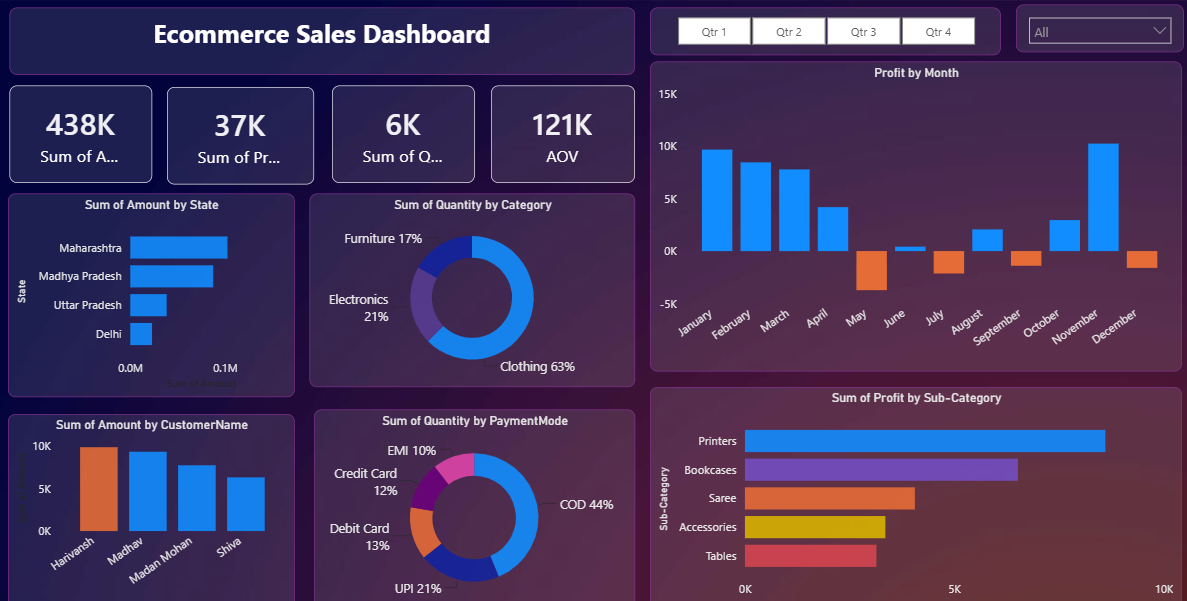

Layout of this report page (visuals, bound fields, positions):
{"tool":"powerbi","page":{"name":"Page 1","canvas":[1280,720],"ordinal":0},"visuals":[{"type":"textbox","box":[17.5,30.2,663.3,71.6],"z":0},{"type":"columnChart","title":"Profit by Month","fields":{"Y":["Sum(Details.Profit)"],"Category":["Orders.Order Date.Variation.Date Hierarchy.Month"]},"box":[696.1,88,564.1,328.9],"z":1000},{"type":"barChart","fields":{"Category":["Details.Sub-Category"],"Y":["Sum(Details.Profit)"]},"box":[696.1,432.2,564.1,237.1],"z":2000},{"type":"donutChart","fields":{"Category":["Details.Category"],"Y":["Sum(Details.Quantity)"]},"box":[335.6,227.5,345.2,205.2],"z":3000},{"type":"donutChart","fields":{"Category":["Details.PaymentMode"],"Y":["Sum(Details.Quantity)"]},"box":[340.4,456.5,340.4,213.1],"z":4000},{"type":"cardVisual","fields":{"Data":["Sum(Details.Amount)"]},"box":[17.5,112.9,151.1,103.4],"z":5000},{"type":"cardVisual","fields":{"Data":["Sum(Details.Profit)"]},"box":[184.5,114.5,155.9,103.4],"z":6000},{"type":"cardVisual","fields":{"Data":["Sum(Details.Quantity)"]},"box":[359.5,112.9,151.1,103.4],"z":7000},{"type":"cardVisual","fields":{"Data":["Sum(Details.AOV)"]},"box":[528.1,112.9,152.7,103.4],"z":8000},{"type":"barChart","fields":{"Category":["Orders.State"],"Y":["Sum(Details.Amount)"]},"box":[15.9,227.5,303.8,216.3],"z":9000},{"type":"columnChart","fields":{"Category":["Orders.CustomerName"],"Y":["Sum(Details.Amount)"]},"box":[15.3,460.9,304.1,208.4],"z":10000},{"type":"slicer","fields":{"Values":["Orders.Order Date.Variation.Date Hierarchy.Quarter"]},"box":[696.7,30.2,372.2,50.9],"z":11000},{"type":"slicer","fields":{"Values":["Orders.State"]},"box":[1084.8,27,178.1,50.9],"z":12000}]}

Visuals, with their boxes on the page's 1280x720 design canvas (x1, y1, x2, y2). These are canvas units, not pixel positions in the 1187x601 screenshot, which may show the page scaled, cropped or inside an application window:
textbox: locate(18, 30, 681, 102)
"Profit by Month" columnChart: locate(696, 88, 1260, 417)
barChart - Details.Sub-Category x Sum(Details.Profit): locate(696, 432, 1260, 669)
donutChart - Details.Category x Sum(Details.Quantity): locate(336, 228, 681, 433)
donutChart - Details.PaymentMode x Sum(Details.Quantity): locate(340, 456, 681, 670)
cardVisual - Sum(Details.Amount): locate(18, 113, 169, 216)
cardVisual - Sum(Details.Profit): locate(184, 114, 340, 218)
cardVisual - Sum(Details.Quantity): locate(360, 113, 511, 216)
cardVisual - Sum(Details.AOV): locate(528, 113, 681, 216)
barChart - Orders.State x Sum(Details.Amount): locate(16, 228, 320, 444)
columnChart - Orders.CustomerName x Sum(Details.Amount): locate(15, 461, 319, 669)
slicer - Orders.Order Date.Variation.Date Hierarchy.Quarter: locate(697, 30, 1069, 81)
slicer - Orders.State: locate(1085, 27, 1263, 78)
